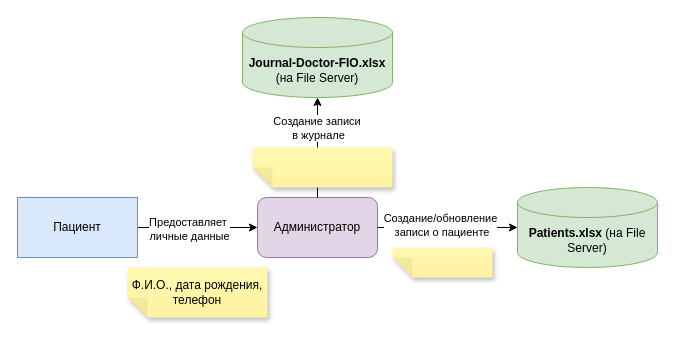
This 675x342 diagram has some shape labels left out. Each missing label, with the centre of its shape:
"ПДН" belongs at [443,263].
"Ф.И.О. пациента, время приёма" belongs at [323,168].
